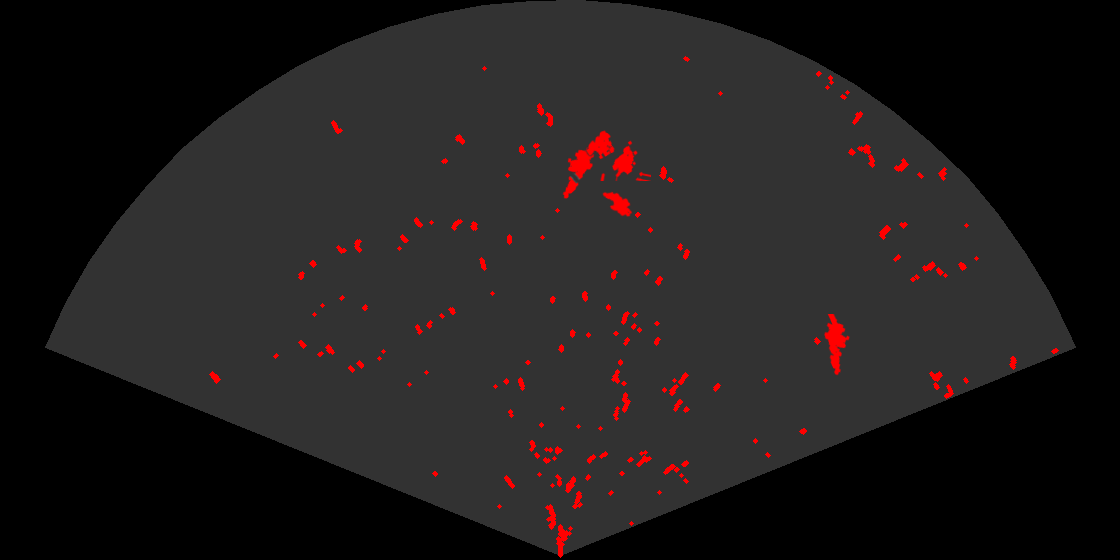AUV: (601, 190, 634, 218)
cage: (584, 129, 651, 181)
frogman: (561, 139, 607, 200), (823, 314, 851, 377)
